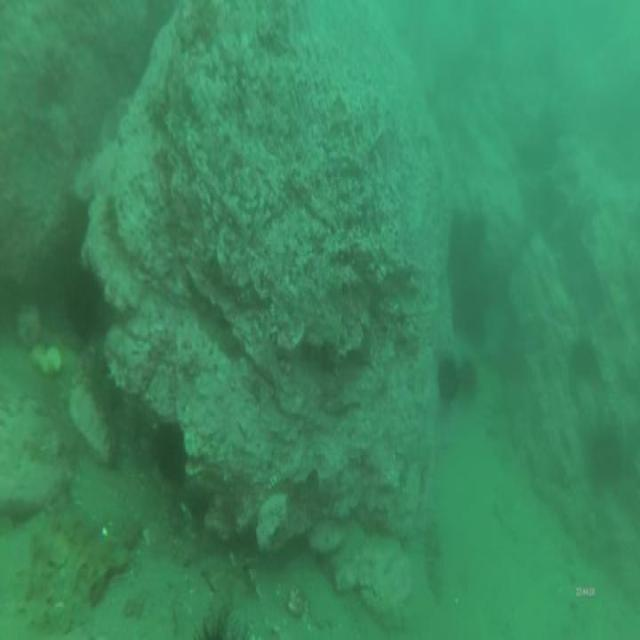echinus: (58, 255, 111, 352), (150, 411, 190, 490), (449, 281, 490, 346), (449, 210, 489, 274), (594, 424, 628, 493), (435, 352, 464, 408), (570, 333, 596, 381), (459, 352, 479, 402)
holothurian: (21, 552, 56, 630), (422, 518, 450, 613)
